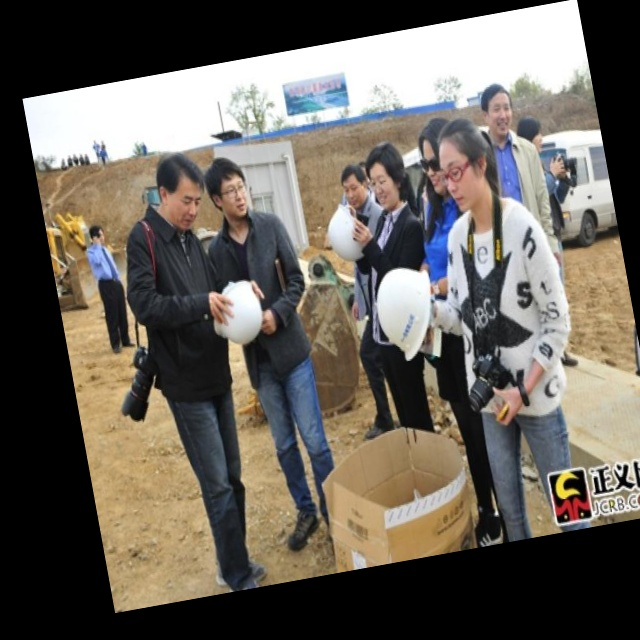Con_Casco: (370, 261, 443, 366), (204, 275, 268, 346)
Sin_Casco_Mascarrilla: (435, 111, 499, 214), (153, 149, 211, 232), (202, 154, 251, 219), (478, 81, 516, 136)
